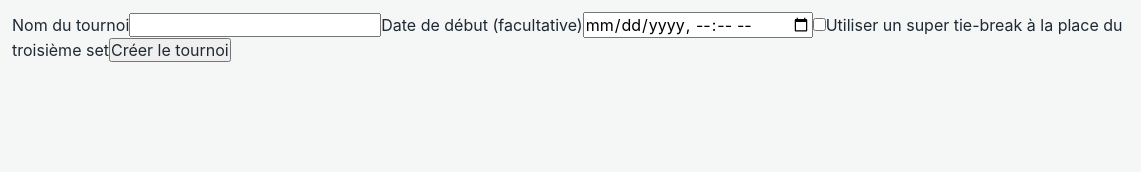
Test: CreateTournamentForm › creates a tournament with the configured format and confirms success
Type "Club Open" into the field labelled "Nom du tournoi" at (255, 25), box left=129, top=13, right=381, bottom=37
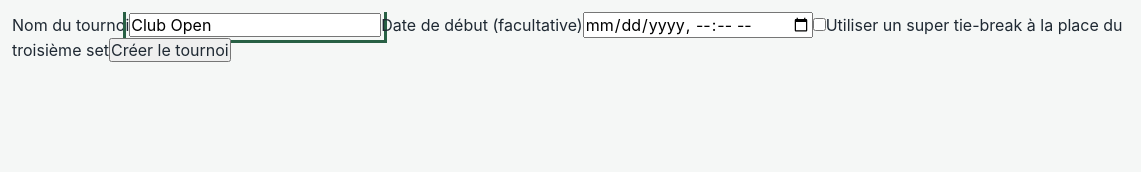
Type "2026-10-15T10:00" into the field labelled "Date de début (facultative)" at (698, 25), box left=583, top=12, right=813, bottom=38
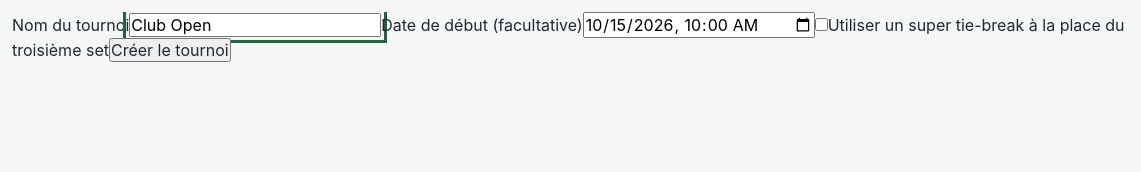
Click the checkbox labelled "Utiliser un super tie-break à la place du troisième set" at (821, 24), box left=815, top=18, right=828, bottom=31
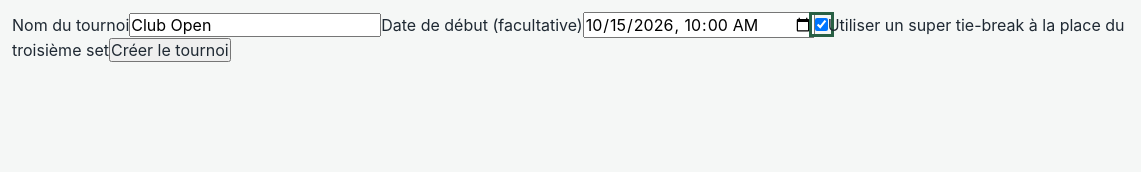
Click the button "Créer le tournoi" at (170, 50), box left=109, top=38, right=231, bottom=62
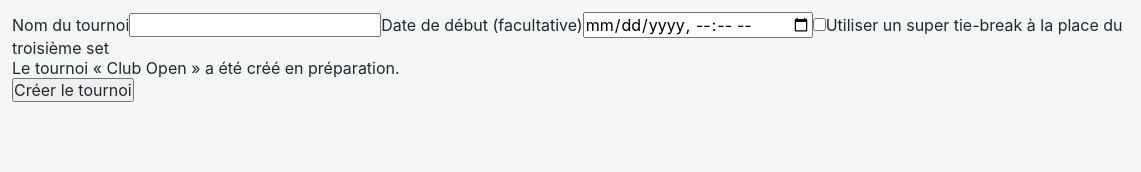
Now the message reads "Le tournoi « Club Open » a été créé en préparation.", box left=12, top=58, right=400, bottom=78
